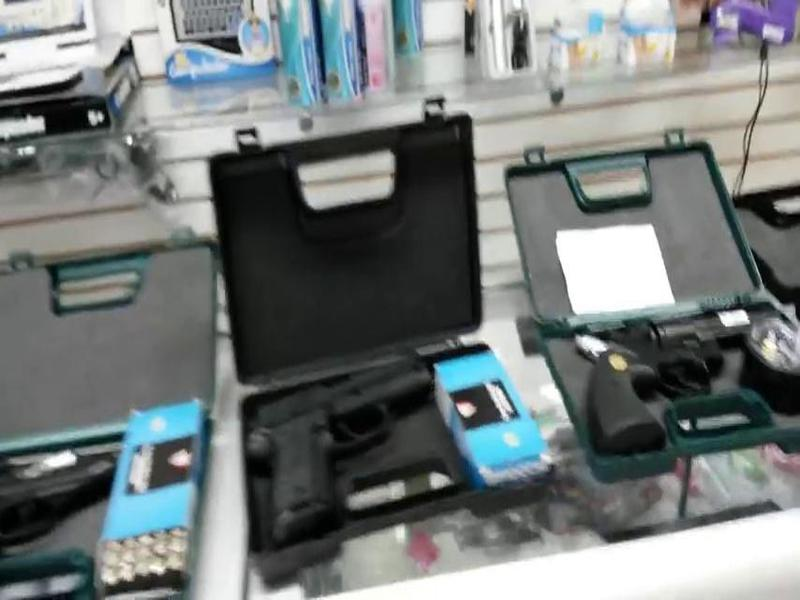Pistola: (227, 332, 464, 567)
Revolver: (587, 295, 800, 459)
